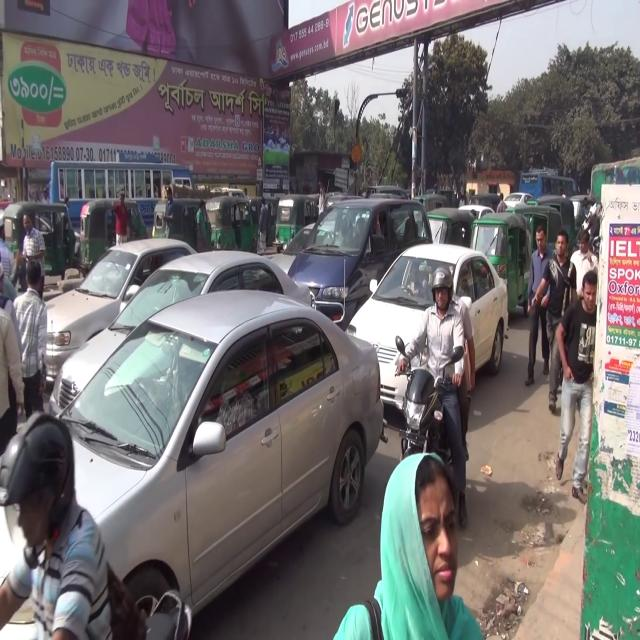blue: (290, 203, 429, 309)
silver: (5, 292, 381, 640), (31, 245, 168, 394)
white: (343, 254, 517, 425)
